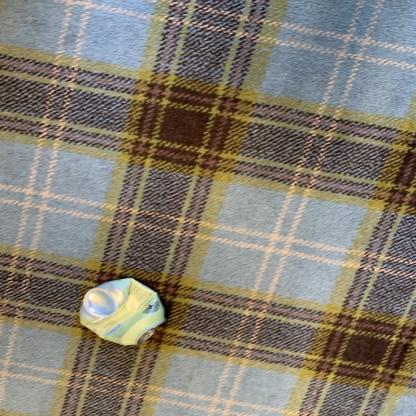trash: (78, 280, 174, 348)
